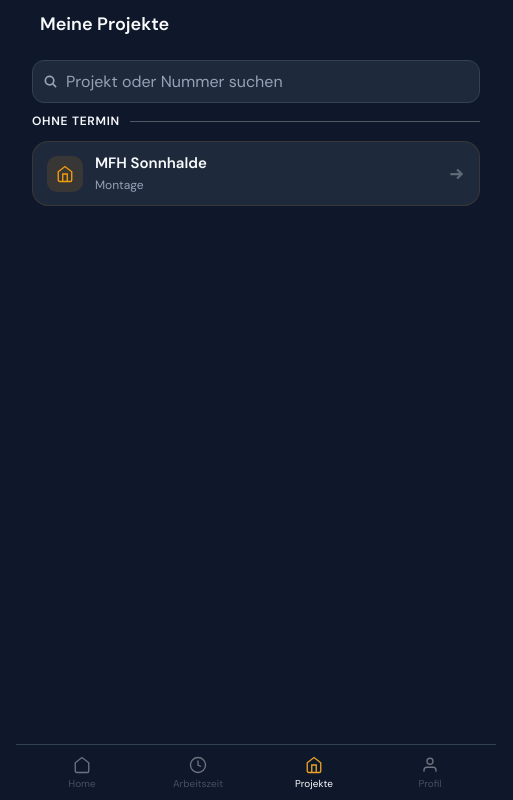
Test: ProjekteScreen — Kontakt aus dem Kundenstamm › kennzeichnet einen vom Kunden abgeleiteten Kontakt
Click the text "MFH Sonnhalde" at (151, 163), box [95,153,207,173]
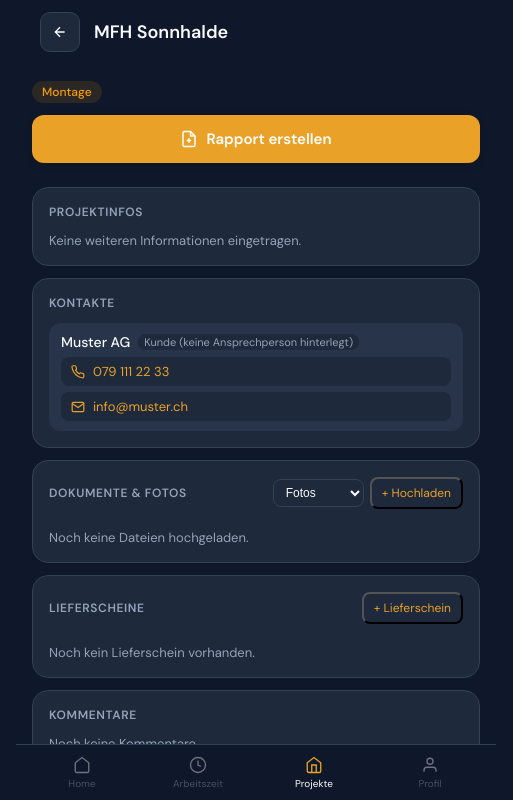
Expected: the text "Muster AG" is shown, [61,333,130,351]
Expected: the text "Kunde (keine Ansprechperson hinterlegt)" is shown, [138,334,359,350]
